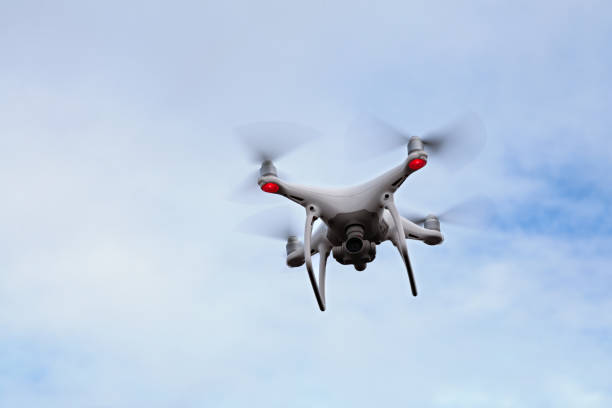Drone: (212, 112, 493, 320)
